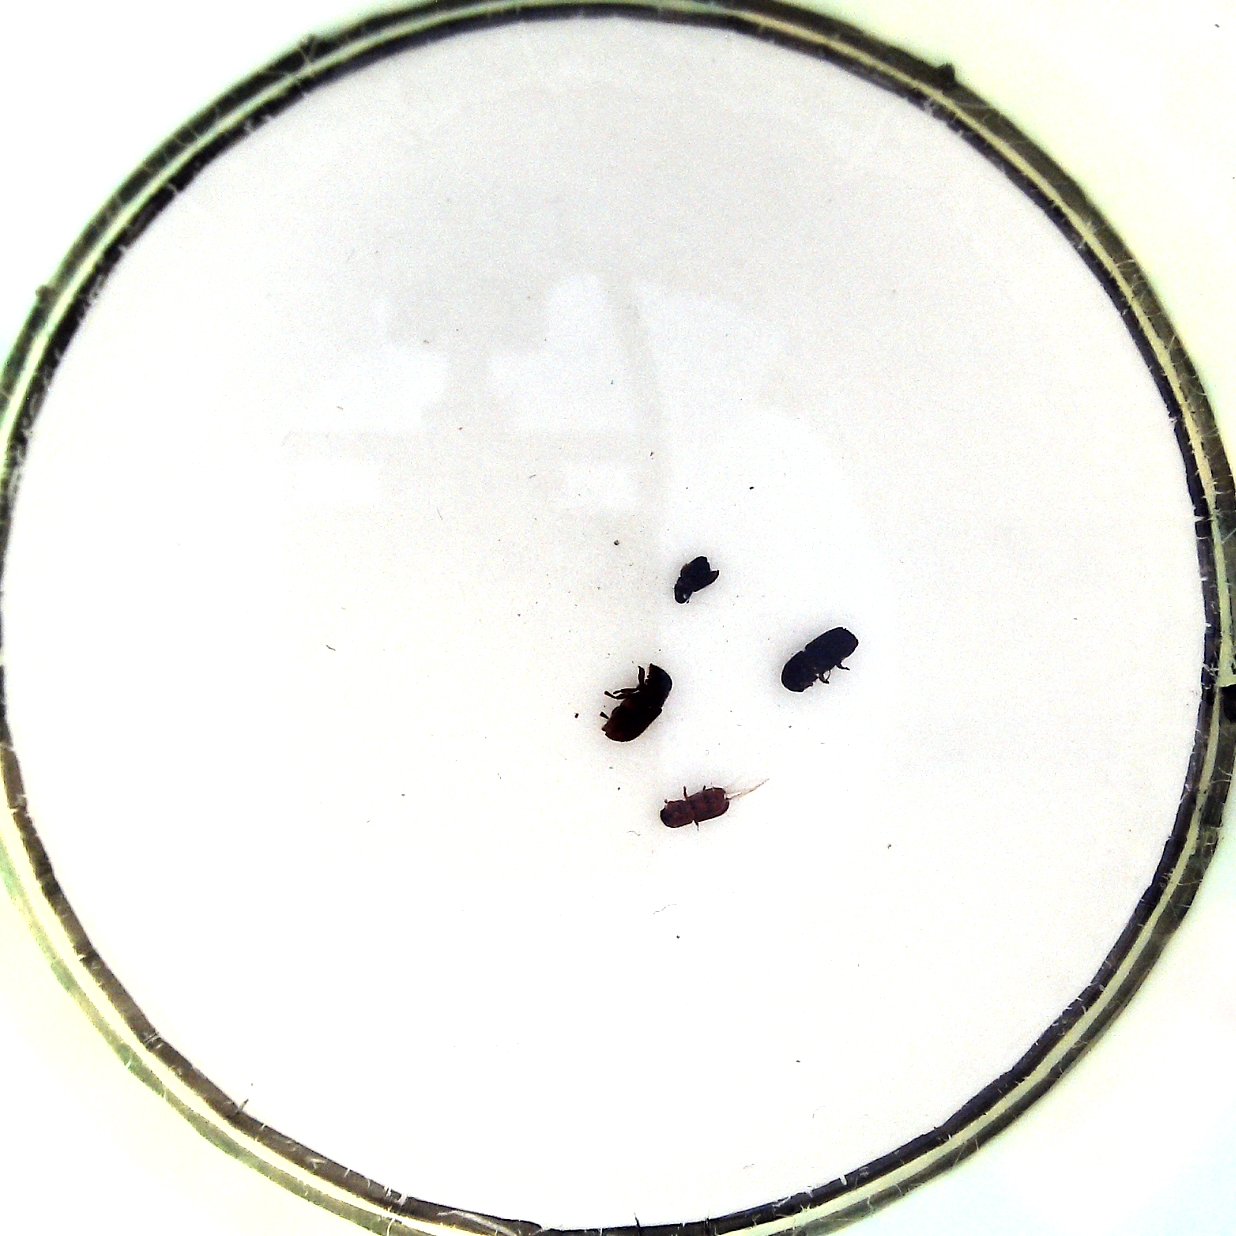Linnaeus: (776, 625, 861, 696)
acuminatus: (655, 781, 747, 830)
armandi: (594, 658, 673, 743)
coleoptera: (668, 555, 724, 607)
